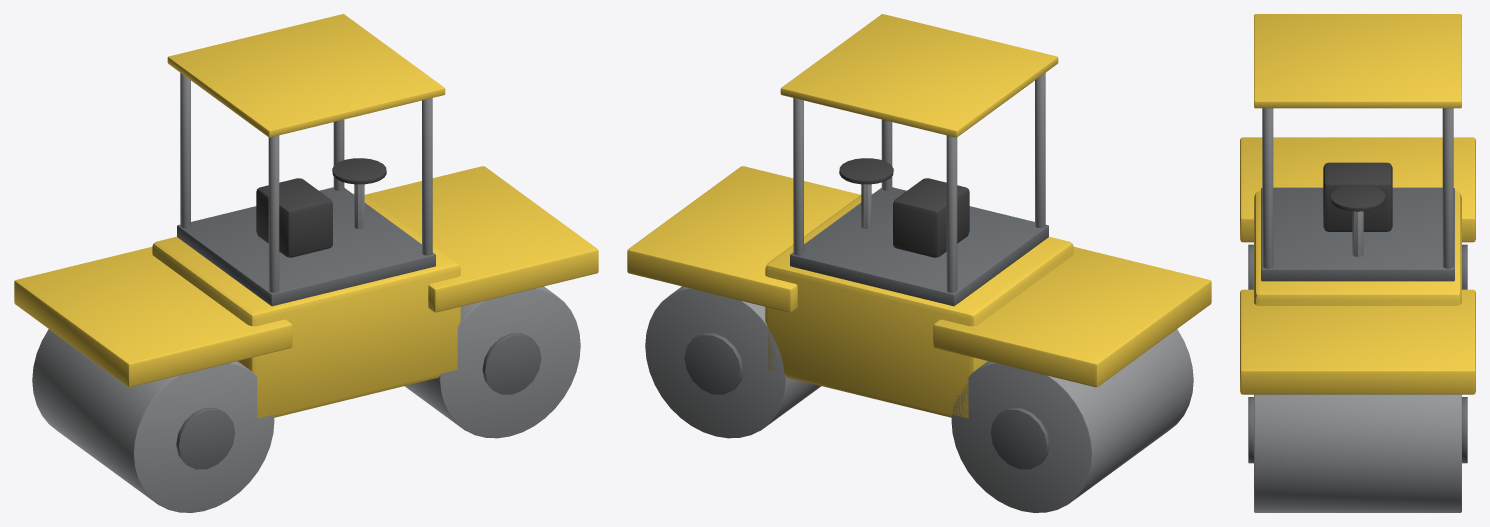
Rendered from EQP-CMP-004.glb.
3 views of the same model, side by side, from view 1: azimuth 30°, elevation 25°; view 2: azimuth 150°, elevation 25°; view 3: azimuth 270°, elevation 25° (orthographic).
Parts seen in each view (by area): view 1: EQP-CMP-004_corpo, EQP-CMP-004_tambort_cilindro, EQP-CMP-004_garfo-1.3, EQP-CMP-004_teto, EQP-CMP-004_garfo1.3, EQP-CMP-004_tamborf_cilindro, EQP-CMP-004_plataforma, EQP-CMP-004_assento, EQP-CMP-004_tamborf_tampa-1, EQP-CMP-004_tambort_tampa-1, EQP-CMP-004_rops0, EQP-CMP-004_rops2 (+2 smaller); view 2: EQP-CMP-004_corpo, EQP-CMP-004_tambort_cilindro, EQP-CMP-004_garfo-1.3, EQP-CMP-004_teto, EQP-CMP-004_garfo1.3, EQP-CMP-004_tamborf_cilindro, EQP-CMP-004_plataforma, EQP-CMP-004_assento, EQP-CMP-004_tamborf_tampa1, EQP-CMP-004_tambort_tampa1, EQP-CMP-004_rops1, EQP-CMP-004_rops3 (+2 smaller); view 3: EQP-CMP-004_tamborf_cilindro, EQP-CMP-004_garfo1.3, EQP-CMP-004_teto, EQP-CMP-004_plataforma, EQP-CMP-004_garfo-1.3, EQP-CMP-004_corpo, EQP-CMP-004_assento, EQP-CMP-004_rops2, EQP-CMP-004_rops3, EQP-CMP-004_volante, EQP-CMP-004_coluna, EQP-CMP-004_tamborf_tampa1 (+1 smaller).
Part boxes in pixels (<box>): EQP-CMP-004_corpo: <box>152,193,460,418</box>; EQP-CMP-004_tambort_cilindro: <box>32,329,274,512</box>; EQP-CMP-004_garfo-1.3: <box>14,247,292,387</box>; EQP-CMP-004_teto: <box>167,14,445,137</box>; EQP-CMP-004_garfo1.3: <box>365,166,598,312</box>; EQP-CMP-004_tamborf_cilindro: <box>404,286,580,438</box>; EQP-CMP-004_plataforma: <box>177,187,435,306</box>; EQP-CMP-004_assento: <box>256,178,332,257</box>; EQP-CMP-004_tamborf_tampa-1: <box>482,333,541,394</box>; EQP-CMP-004_tambort_tampa-1: <box>176,408,235,469</box>; EQP-CMP-004_rops0: <box>268,135,279,292</box>; EQP-CMP-004_rops2: <box>422,98,432,255</box>; EQP-CMP-004_corpo: <box>765,193,1073,418</box>; EQP-CMP-004_tambort_cilindro: <box>951,329,1193,512</box>; EQP-CMP-004_garfo-1.3: <box>933,247,1211,387</box>; EQP-CMP-004_teto: <box>780,14,1058,137</box>; EQP-CMP-004_garfo1.3: <box>627,166,860,312</box>; EQP-CMP-004_tamborf_cilindro: <box>645,286,821,438</box>; EQP-CMP-004_plataforma: <box>790,187,1048,306</box>; EQP-CMP-004_assento: <box>893,178,969,257</box>; EQP-CMP-004_tamborf_tampa1: <box>684,333,743,394</box>; EQP-CMP-004_tambort_tampa1: <box>990,408,1049,469</box>; EQP-CMP-004_rops1: <box>946,135,957,292</box>; EQP-CMP-004_rops3: <box>793,98,803,255</box>; EQP-CMP-004_tamborf_cilindro: <box>1254,394,1461,512</box>; EQP-CMP-004_garfo1.3: <box>1240,289,1475,394</box>; EQP-CMP-004_teto: <box>1254,14,1461,108</box>; EQP-CMP-004_plataforma: <box>1261,187,1454,281</box>; EQP-CMP-004_garfo-1.3: <box>1240,137,1475,242</box>; EQP-CMP-004_corpo: <box>1254,191,1461,305</box>; EQP-CMP-004_assento: <box>1323,162,1392,231</box>; EQP-CMP-004_rops2: <box>1262,108,1273,268</box>; EQP-CMP-004_rops3: <box>1442,108,1453,268</box>; EQP-CMP-004_volante: <box>1330,184,1385,211</box>; EQP-CMP-004_coluna: <box>1352,211,1363,256</box>; EQP-CMP-004_tamborf_tampa1: <box>1462,397,1467,463</box>.
Size of the model in its own units: 4 by 2.96 by 1.7.
